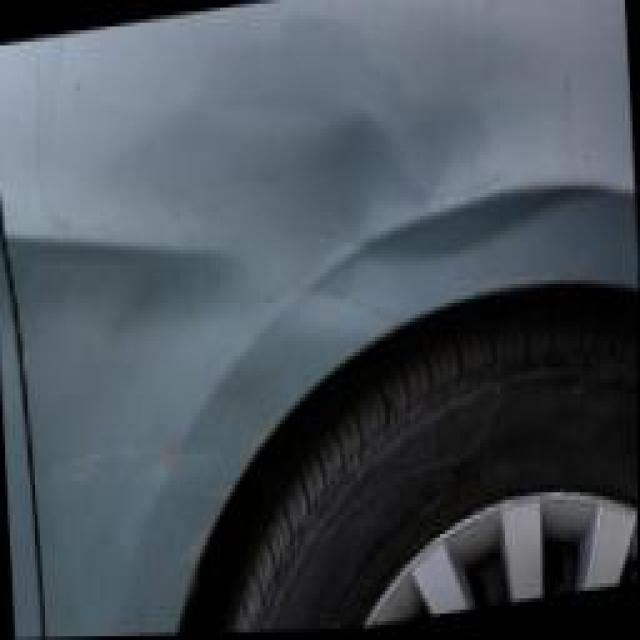Fender: (65, 19, 640, 579)
